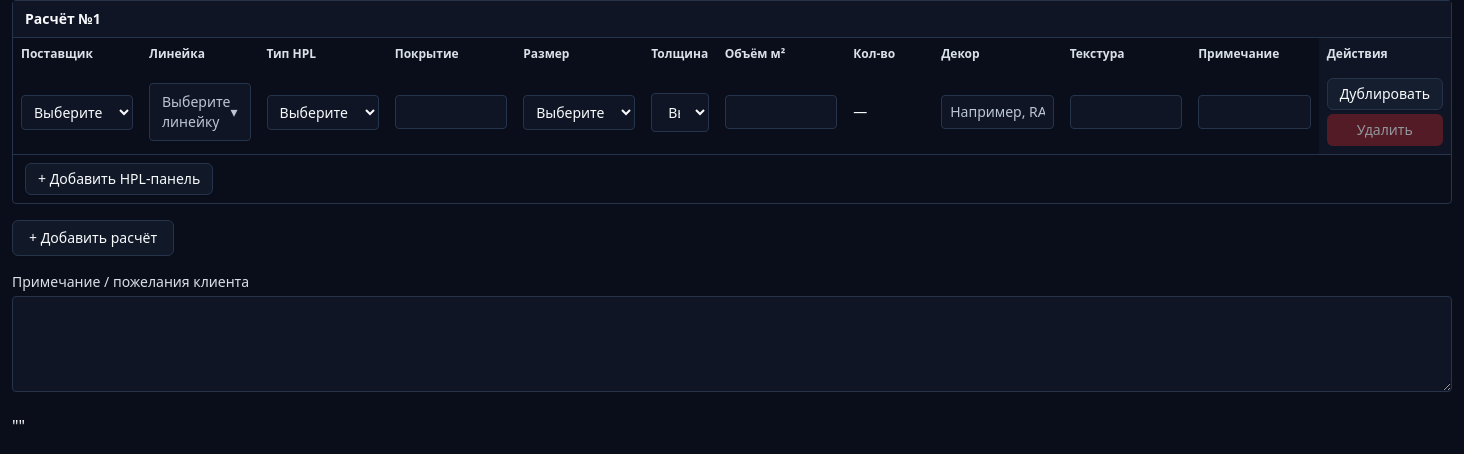
Scenario: CalculationRequestForm › keeps requiredAreaM2 as a decimal string and does not coerce empty to 0
This screenshot has width=1464, height=454.
Expected: the text named "area-raw" reads "\"\"", [12,415,25,437]
Type "10.25" into the field named "Объём м², строка 1" at x=781, y=112, box [725,95,837,129]
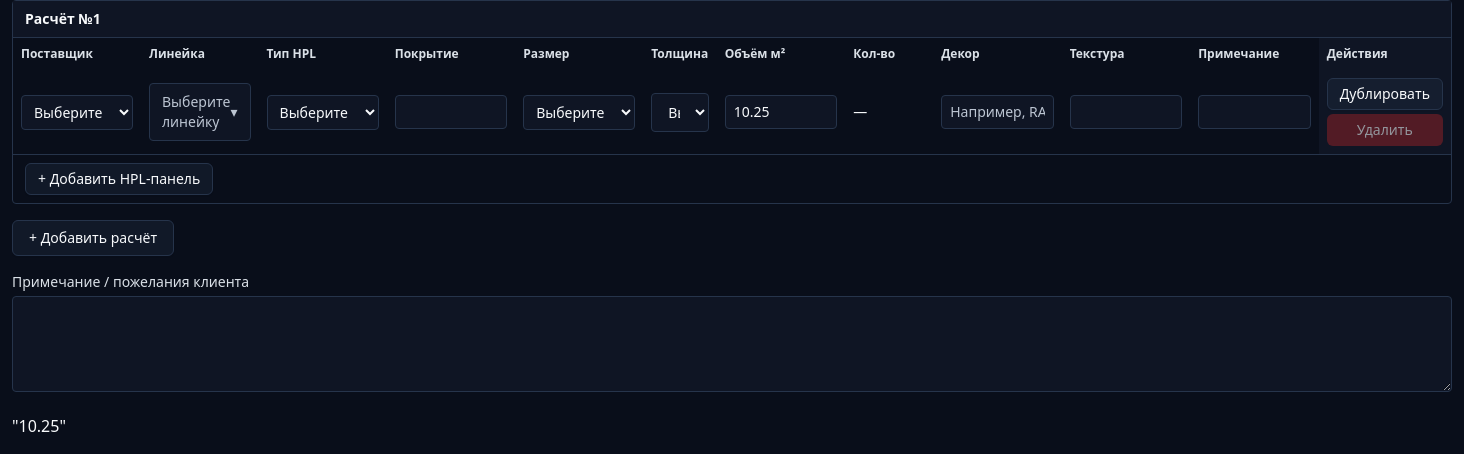
Now the text named "area-raw" reads "\"10.25\"", box [12,415,66,437]
Clear the field named "Объём м², строка 1" at x=781, y=112, box [725,95,837,129]
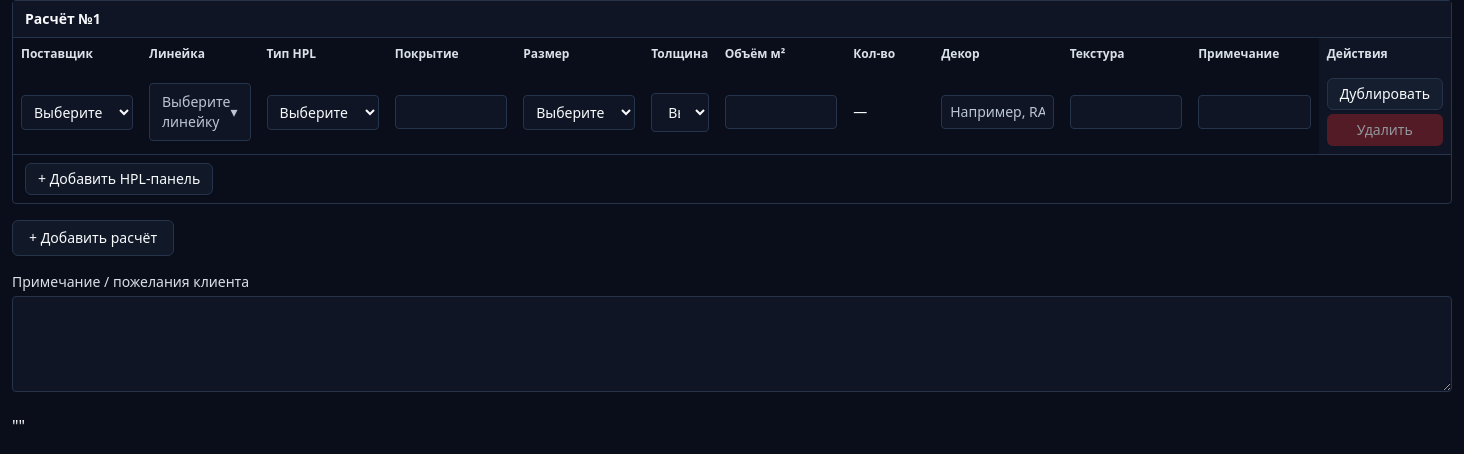
Expected: the text named "Количество, строка 1" reads "—", [853,102,867,121]
Now the text named "area-raw" reads "\"\"", box [12,415,25,437]
